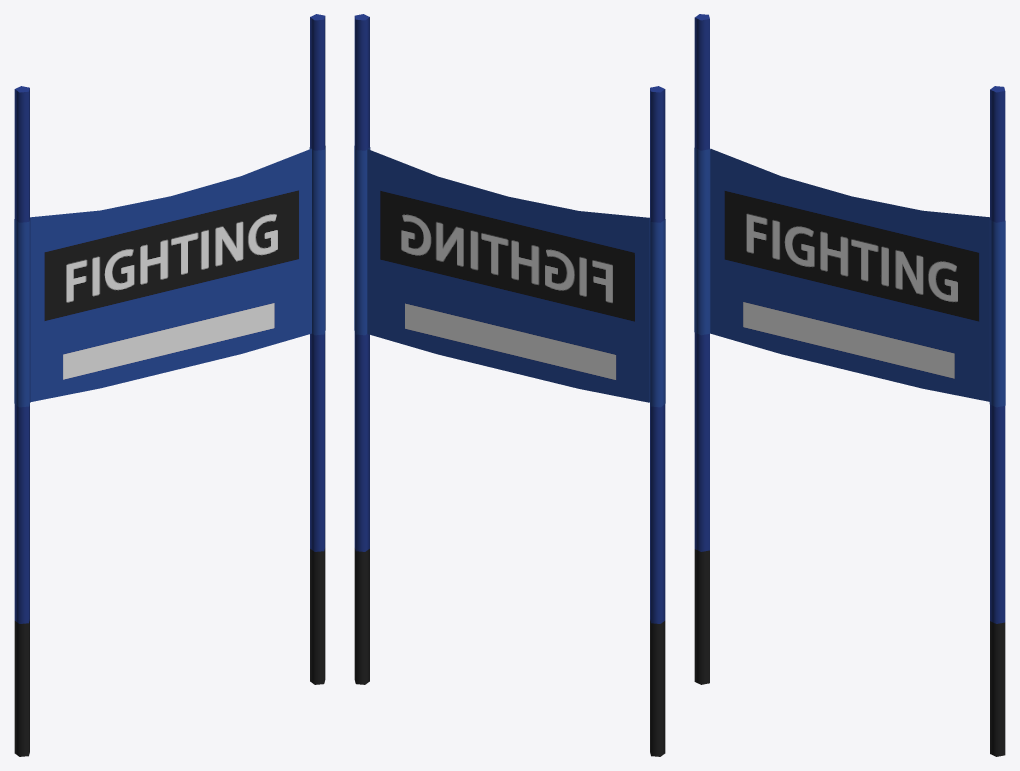
File: HX-zhangaiqi-lan1.FBX
The picture shows the model from 3 angles, left to right: view 1: azimuth 30°, elevation 25°; view 2: azimuth 150°, elevation 25°; view 3: azimuth 330°, elevation 25°; orthographic projection.
Parts seen in each view (by area): view 1: zhangaiqi-lan1; view 2: zhangaiqi-lan1; view 3: zhangaiqi-lan1.
Part boxes in pixels (x1=…): zhangaiqi-lan1: x1=14, y1=14, x2=325, y2=756; zhangaiqi-lan1: x1=354, y1=14, x2=665, y2=756; zhangaiqi-lan1: x1=694, y1=14, x2=1005, y2=756.
Size of the model in its own units: 526 by 1081 by 24.08.
